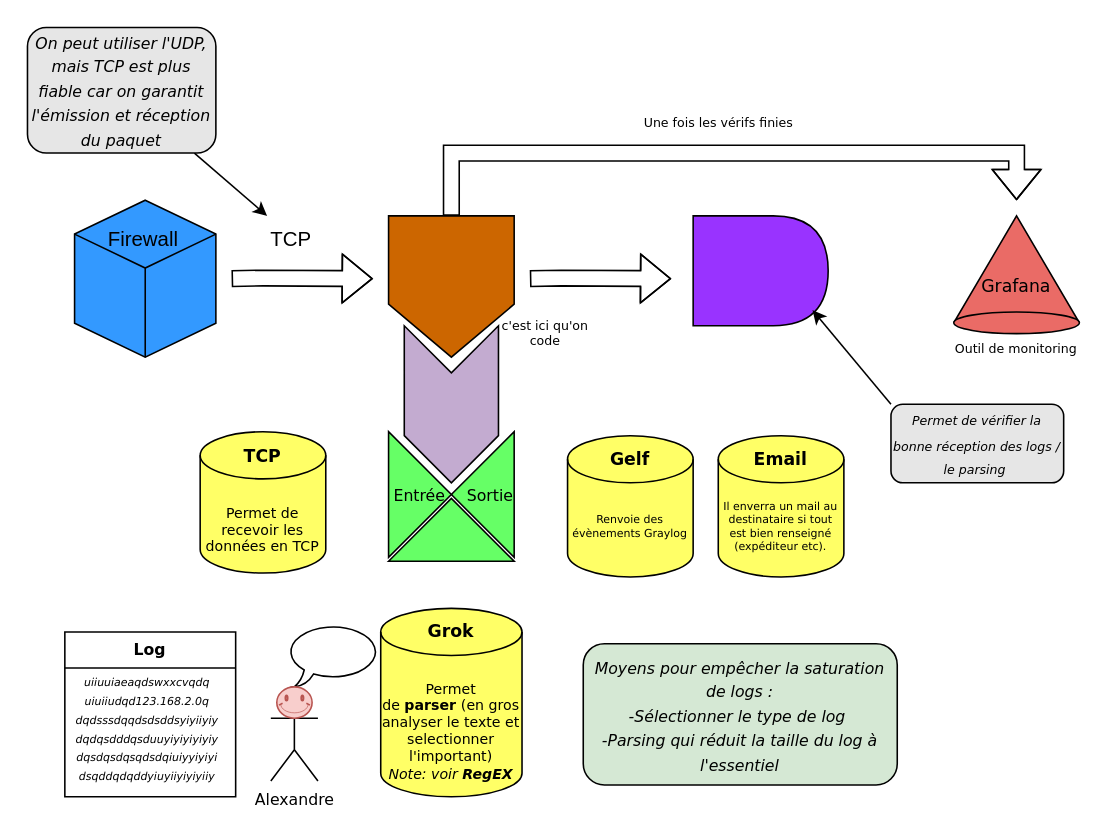
This 1107x838 diagram has some shape labels left out. The centre of each missing label's shape, as x and y in pixels:
"Filtre" belongs at (x=450, y=529).
"Graylog" belongs at (x=760, y=270).
"Je ne veux que l'ip!" belongs at (x=333, y=655).
"Logstash" belongs at (x=450, y=285).
"Plugins Importants" belongs at (x=450, y=403).
